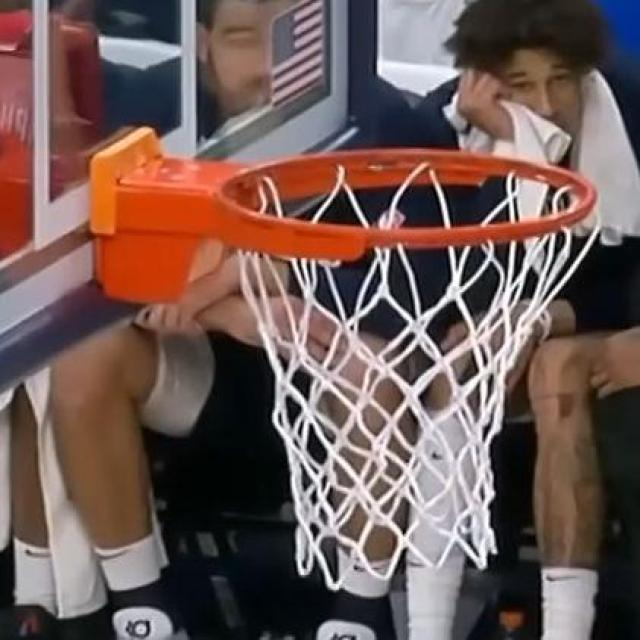hoop: (166, 123, 621, 567)
